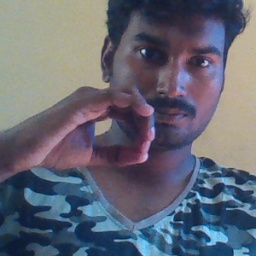O: (26, 79, 160, 180)
